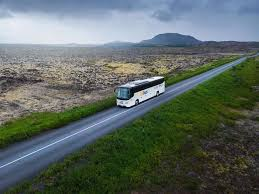bus: (114, 75, 166, 108)
